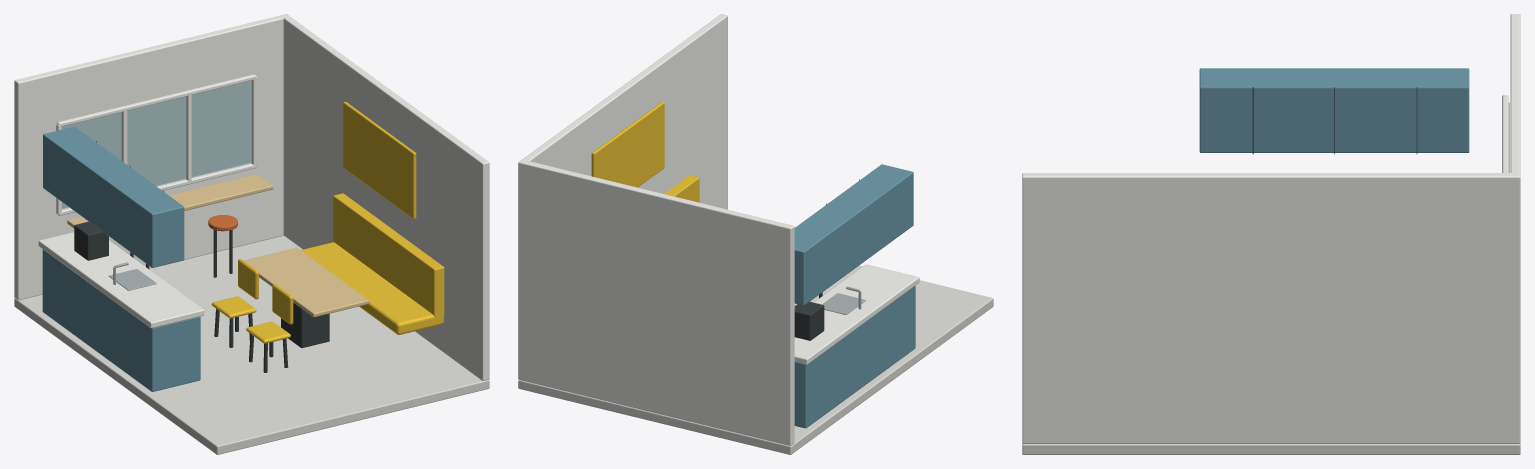
The model's file is con-tea-point-interior-2fb285f0f785.glb.
3 views of the same model, side by side, from view 1: azimuth 30°, elevation 25°; view 2: azimuth 150°, elevation 25°; view 3: azimuth 270°, elevation 25° (orthographic). The views are drawn at different scales.
Parts seen in each view (by area): view 1: con-tea-point; view 2: con-tea-point; view 3: con-tea-point.
Boxes of the visible parts, x1,y1,x2,y2 form: con-tea-point: (14, 14, 489, 454); con-tea-point: (518, 14, 993, 454); con-tea-point: (1022, 14, 1520, 454).
Bounding box in the file's own units: 3.8 × 3.02 × 4.9.
